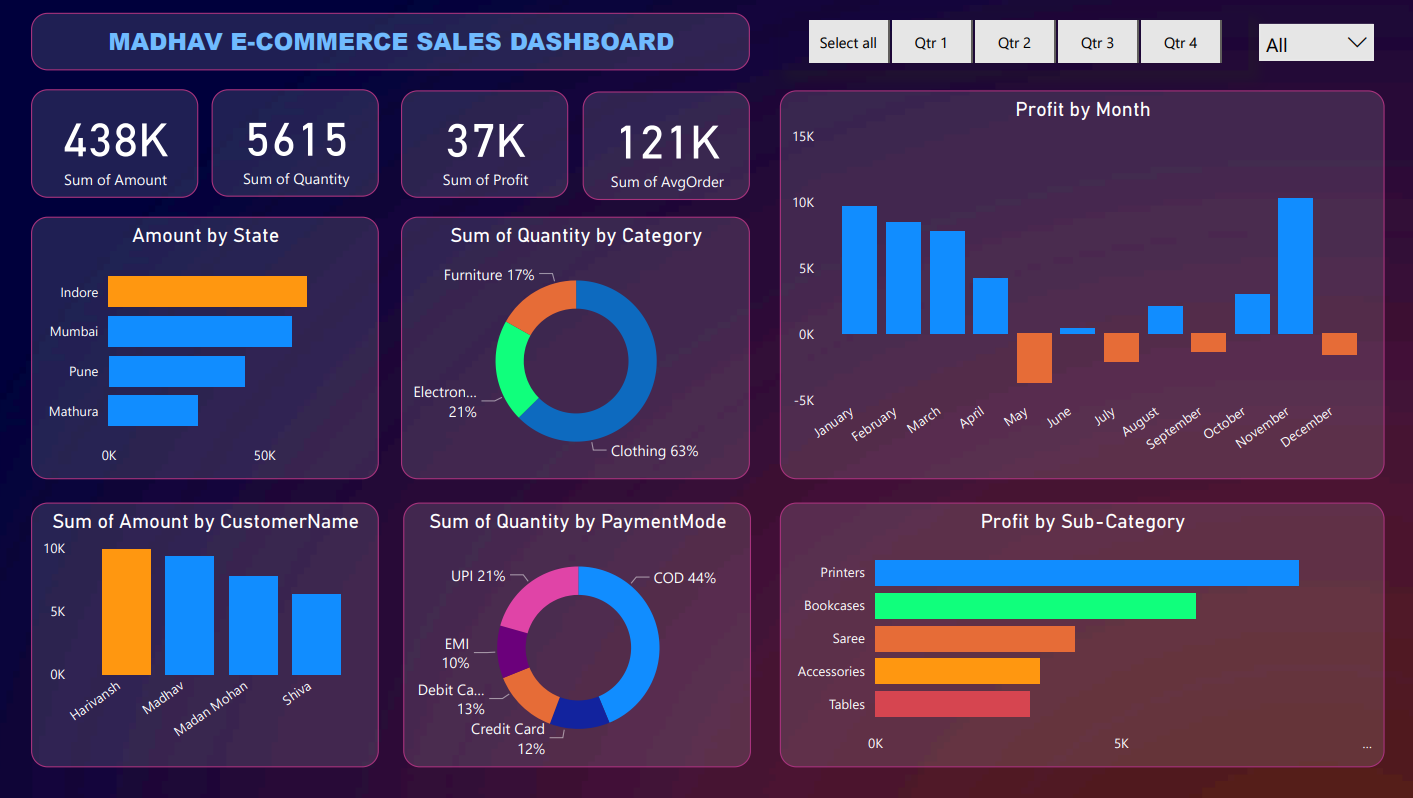

The page's visual inventory and layout, read from the dashboard file:
{"tool":"powerbi","page":{"name":"Page 1","canvas":[1280,720],"ordinal":0},"visuals":[{"type":"textbox","box":[31.6,11,649.1,52.1],"z":0},{"type":"columnChart","title":"Profit by Month","fields":{"Y":["Sum(Details.Profit)"],"Category":["Orders.Order Date.Variation.Date Hierarchy.Month"]},"box":[708.1,81,546.1,351.3],"z":1000},{"type":"barChart","title":"Profit by Sub-Category","fields":{"Category":["Details.Sub-Category"],"Y":["Sum(Details.Profit)"]},"box":[708.1,452.8,546.1,238.8],"z":2000},{"type":"donutChart","fields":{"Category":["Details.Category"],"Y":["Sum(Details.Quantity)"]},"box":[366.4,194.9,314.2,237.4],"z":3000},{"type":"donutChart","fields":{"Y":["Sum(Details.Quantity)"],"Series":["Details.PaymentMode"]},"box":[367.8,452.8,314.2,238.8],"z":4000},{"type":"card","fields":{"Values":["Sum(Details.Amount)"]},"box":[31.6,79.6,150.9,98.8],"z":5000},{"type":"card","fields":{"Values":["Sum(Details.AvgOrder)"]},"box":[529.7,82.3,150.9,97.4],"z":6000},{"type":"card","fields":{"Values":["Sum(Details.Quantity)"]},"box":[194.9,79.6,150.9,97.4],"z":7000},{"type":"card","fields":{"Values":["Sum(Details.Profit)"]},"box":[366.4,81,150.9,97.4],"z":8000},{"type":"barChart","title":"Amount by State","fields":{"Category":["Orders.City"],"Y":["Sum(Details.Amount)"]},"box":[31.6,194.9,314.2,237.4],"z":9000},{"type":"columnChart","fields":{"Category":["Orders.CustomerName"],"Y":["Sum(Details.Amount)"]},"box":[31.6,452.8,314.2,238.8],"z":10000},{"type":"slicer","fields":{"Values":["Orders.Order Date.Variation.Date Hierarchy.Quarter"]},"box":[708.1,11,422.6,52.1],"z":11000},{"type":"slicer","fields":{"Values":["Orders.State"]},"box":[1130.7,11,123.5,52.1],"z":12000}]}

Visuals, with their boxes in screenshot pixels (x1, y1, x2, y2), scaled from the page's 1280x720 canvas onto the 1413x798 screenshot:
textbox: 35, 12, 751, 70
"Profit by Month" columnChart: 782, 90, 1385, 479
"Profit by Sub-Category" barChart: 782, 502, 1385, 767
donutChart - Details.Category x Sum(Details.Quantity): 404, 216, 751, 479
donutChart - Sum(Details.Quantity) x Details.PaymentMode: 406, 502, 753, 767
card - Sum(Details.Amount): 35, 88, 201, 198
card - Sum(Details.AvgOrder): 585, 91, 751, 199
card - Sum(Details.Quantity): 215, 88, 382, 196
card - Sum(Details.Profit): 404, 90, 571, 198
"Amount by State" barChart: 35, 216, 382, 479
columnChart - Orders.CustomerName x Sum(Details.Amount): 35, 502, 382, 767
slicer - Orders.Order Date.Variation.Date Hierarchy.Quarter: 782, 12, 1248, 70
slicer - Orders.State: 1248, 12, 1385, 70
